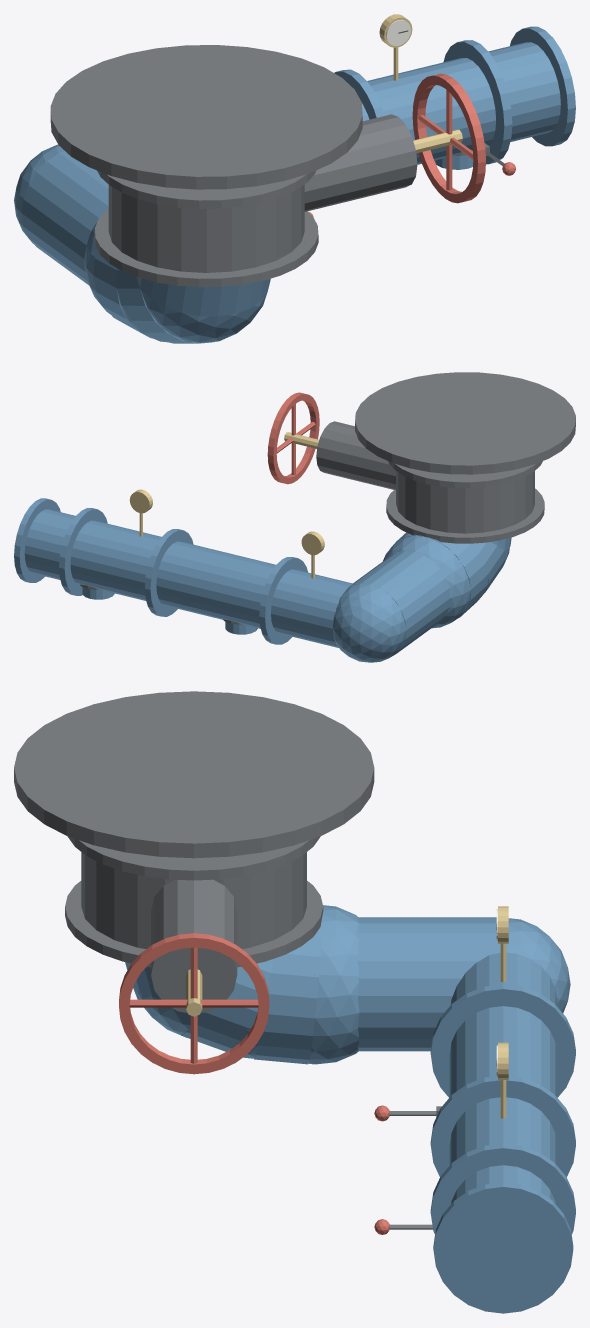
Rendered from valve_set.glb.
The picture shows the model from 3 angles, top to bottom: view 1: azimuth 30°, elevation 25°; view 2: azimuth 150°, elevation 25°; view 3: azimuth 270°, elevation 25°; orthographic projection. The views are drawn at different scales.
Parts seen in each view (by area): view 1: valve_set_steel_d, valve_set_pump, valve_set_redp, valve_set_brass, valve_set_gauge; view 2: valve_set_pump, valve_set_steel_d, valve_set_redp, valve_set_brass; view 3: valve_set_pump, valve_set_steel_d, valve_set_redp, valve_set_brass.
Boxes of the visible parts, box(x1,y1,x2,y2) form: valve_set_steel_d: box(50, 45, 504, 287); valve_set_pump: box(14, 26, 575, 343); valve_set_redp: box(308, 73, 515, 217); valve_set_brass: box(379, 14, 462, 153); valve_set_gauge: box(386, 19, 410, 45); valve_set_pump: box(14, 498, 511, 662); valve_set_steel_d: box(80, 372, 575, 624); valve_set_redp: box(267, 392, 319, 484); valve_set_brass: box(129, 432, 324, 578); valve_set_pump: box(125, 905, 575, 1313); valve_set_steel_d: box(14, 691, 441, 1229); valve_set_redp: box(119, 933, 389, 1234); valve_set_brass: box(186, 906, 508, 1118).
Bounding box in the file's own units: 3.01 × 1.19 × 2.09.
